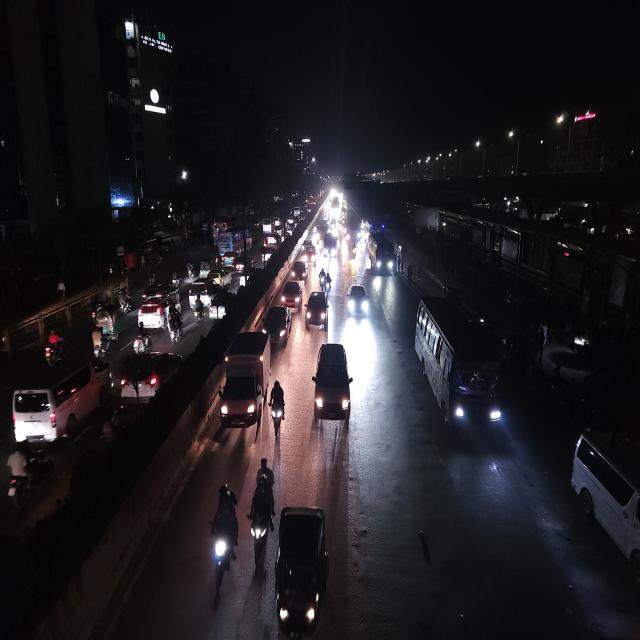bus: (412, 292, 505, 441), (366, 229, 395, 278), (220, 224, 252, 253), (324, 232, 336, 260)
car: (568, 425, 640, 583), (9, 355, 113, 444), (311, 338, 353, 428), (136, 292, 176, 330), (262, 302, 292, 348), (304, 288, 329, 332), (346, 280, 370, 323), (207, 288, 231, 325), (280, 278, 302, 310), (187, 276, 213, 303), (289, 259, 309, 284), (301, 244, 317, 269), (262, 231, 280, 252), (286, 220, 296, 235)
cng: (274, 501, 332, 640)
motorcycle: (207, 480, 240, 598), (4, 439, 56, 507), (248, 461, 274, 568), (268, 376, 288, 439), (40, 328, 68, 367), (90, 326, 112, 357), (166, 313, 183, 345), (132, 330, 153, 355), (193, 295, 207, 324), (120, 287, 134, 314), (318, 269, 326, 291), (352, 242, 359, 264)
pedestrian: (531, 324, 549, 364), (407, 260, 413, 285), (416, 260, 422, 280), (398, 256, 402, 274)
truck: (218, 328, 269, 431)
